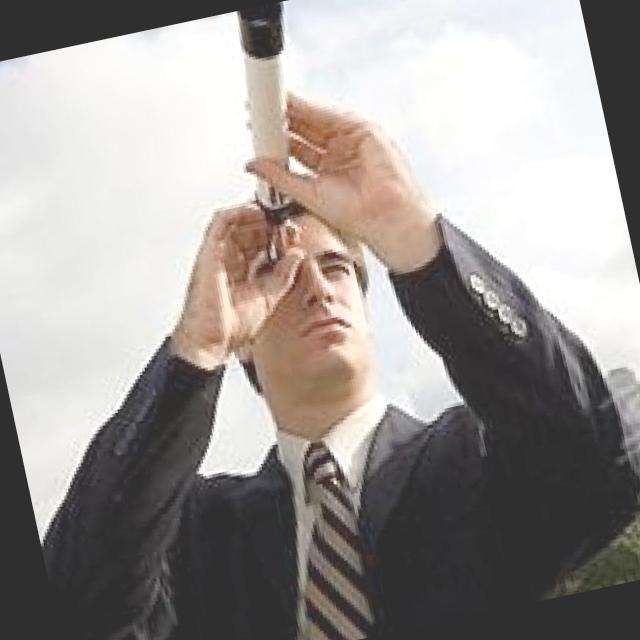no_vest: (98, 344, 588, 640)
